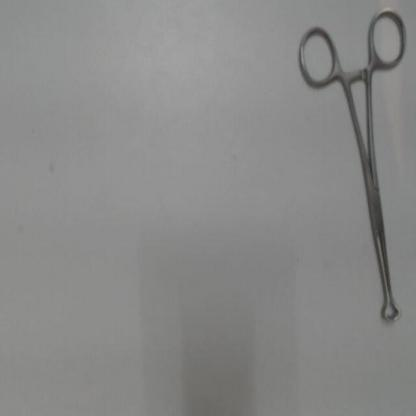Babcock Tissue Forceps: (293, 3, 412, 332)
